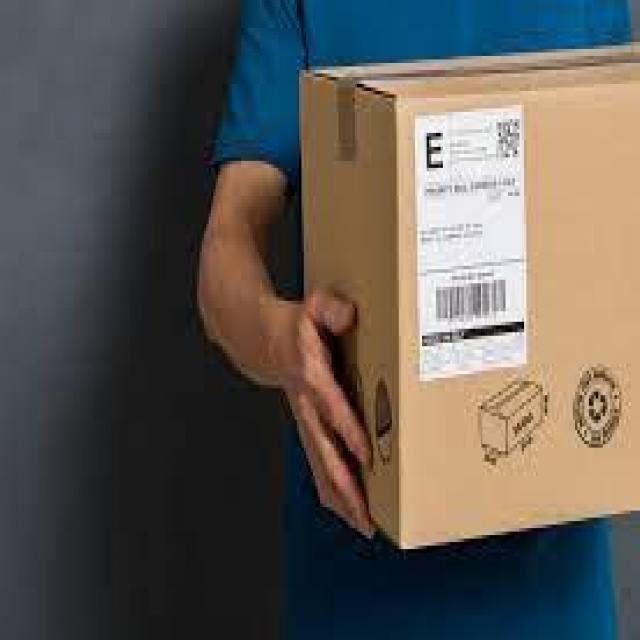box: (291, 35, 640, 555)
